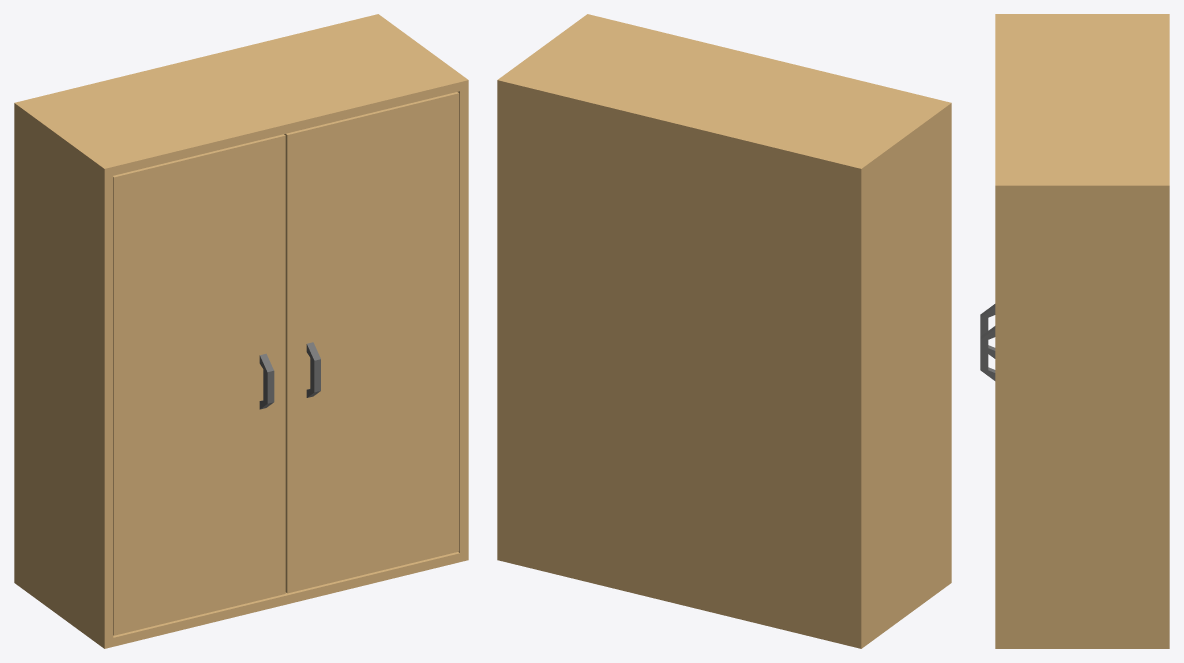
Rendered from TallShelf.fbx.
3 renders of one model, left to right at view 1: azimuth 30°, elevation 25°; view 2: azimuth 150°, elevation 25°; view 3: azimuth 270°, elevation 25°, orthographic. The views are drawn at different scales.
Visible parts, largest first — view 1: Shelf.002, Door.003, Door.002; view 2: Shelf.002; view 3: Shelf.002, Handle.008, Handle.009.
Boxes of the visible parts, box(x1,y1,x2,y2) form: Shelf.002: box(14, 14, 468, 648); Door.003: box(284, 92, 459, 593); Door.002: box(113, 134, 285, 635); Shelf.002: box(497, 14, 951, 648); Shelf.002: box(995, 14, 1169, 648); Handle.008: box(980, 326, 995, 380); Handle.009: box(980, 304, 995, 358).
Bounding box in the file's own units: 155 × 195 × 72.26.
